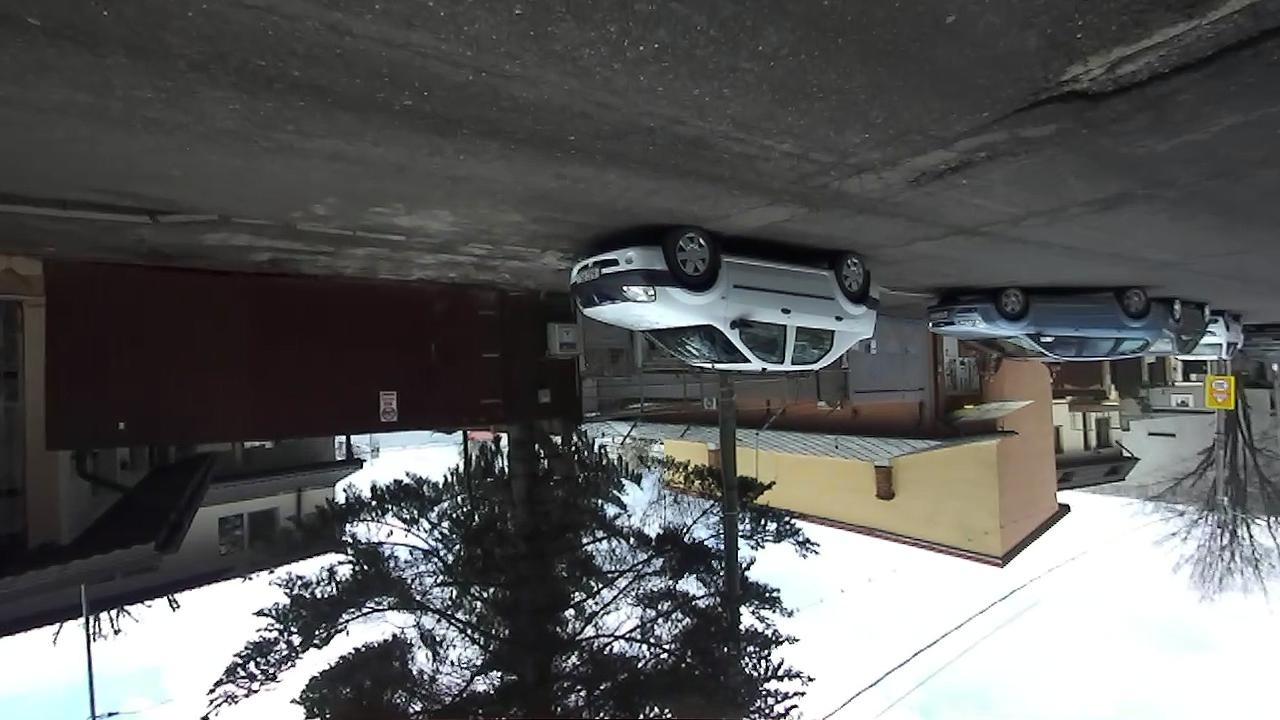pothole: (967, 1, 1279, 132), (890, 141, 1035, 197)
